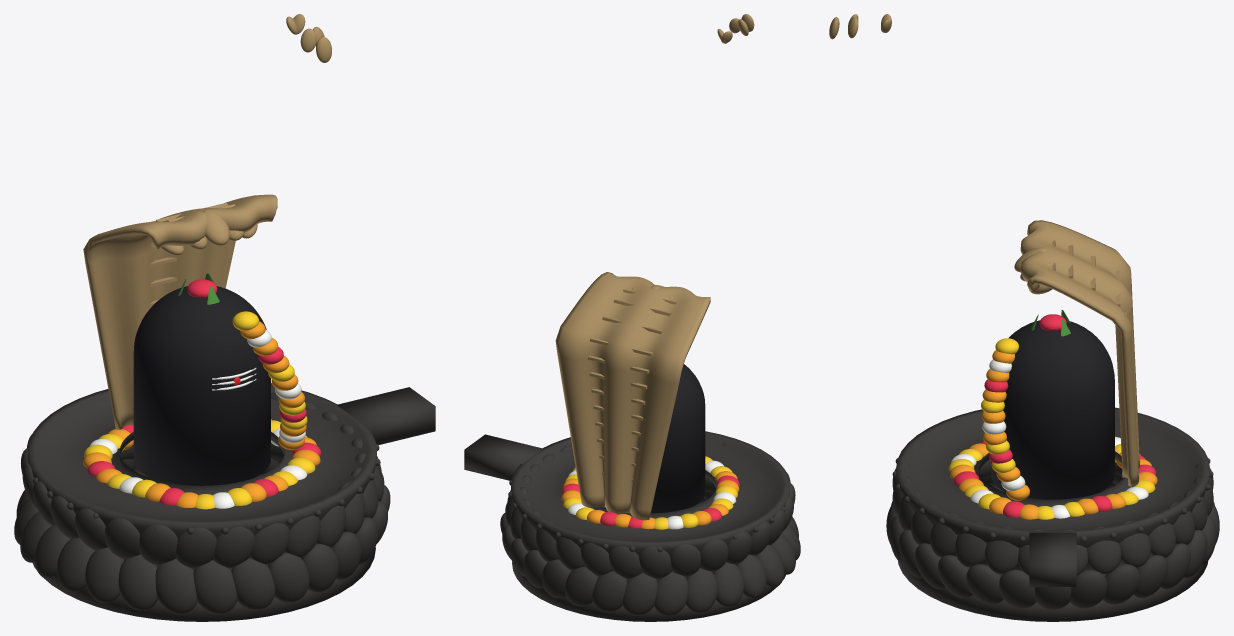
Rendered from shiva_lingam_master.glb.
3 renders of one model, left to right at view 1: azimuth 30°, elevation 25°; view 2: azimuth 150°, elevation 25°; view 3: azimuth 270°, elevation 25°, orthographic. The views are drawn at different scales.
Parts seen in each view (by area): view 1: Shiva_PadmaPithaBase, Shiva_LingamBody, Shiva_NagaHoodCanopy, Shiva_GomukhaSpout, AdhoPetal_18, AdhoPetal_19, AdhoPetal_17, AdhoPetal_20, AdhoPetal_16, AdhoPetal_21, AdhoPetal_15, UrdhvaPetal_18 (+16 smaller); view 2: Shiva_NagaHoodCanopy, Shiva_PadmaPithaBase, Shiva_LingamBody, Shiva_GomukhaSpout, AdhoPetal_10, AdhoPetal_9, AdhoPetal_11, AdhoPetal_8, AdhoPetal_12, AdhoPetal_7, AdhoPetal_13, UrdhvaPetal_9 (+12 smaller); view 3: Shiva_PadmaPithaBase, Shiva_LingamBody, Shiva_NagaHoodCanopy, Shiva_GomukhaSpout, AdhoPetal_1, AdhoPetal_26, AdhoPetal_27, AdhoPetal_2, AdhoPetal_3, AdhoPetal_25, UrdhvaPetal_1, UrdhvaPetal_26 (+11 smaller).
Boxes of the visible parts, x1,y1,x2,y2 form: Shiva_PadmaPithaBase: (27, 383, 376, 621); Shiva_LingamBody: (133, 286, 270, 485); Shiva_NagaHoodCanopy: (83, 194, 277, 429); Shiva_GomukhaSpout: (337, 387, 435, 445); AdhoPetal_18: (155, 558, 197, 614); AdhoPetal_19: (193, 560, 237, 614); AdhoPetal_17: (118, 554, 157, 610); AdhoPetal_20: (231, 558, 275, 610); AdhoPetal_16: (85, 547, 124, 603); AdhoPetal_21: (268, 552, 309, 602); AdhoPetal_15: (57, 537, 95, 592); UrdhvaPetal_18: (175, 527, 216, 568); Shiva_NagaHoodCanopy: (555, 272, 710, 520); Shiva_PadmaPithaBase: (511, 431, 789, 621); Shiva_LingamBody: (651, 364, 705, 513); Shiva_GomukhaSpout: (464, 434, 542, 480); AdhoPetal_10: (654, 571, 687, 615); AdhoPetal_9: (622, 572, 657, 615); AdhoPetal_11: (686, 568, 717, 612); AdhoPetal_8: (592, 571, 627, 612); AdhoPetal_12: (713, 562, 743, 607); AdhoPetal_7: (565, 566, 598, 606); AdhoPetal_13: (736, 554, 766, 598); UrdhvaPetal_9: (639, 546, 671, 579); Shiva_PadmaPithaBase: (896, 407, 1209, 621); Shiva_LingamBody: (991, 320, 1114, 499); Shiva_NagaHoodCanopy: (1020, 220, 1139, 487); Shiva_GomukhaSpout: (1029, 532, 1076, 586); AdhoPetal_1: (1070, 570, 1106, 608); AdhoPetal_26: (966, 564, 1003, 604); AdhoPetal_27: (999, 570, 1036, 608); AdhoPetal_2: (1102, 564, 1139, 604); AdhoPetal_3: (1133, 555, 1168, 597); AdhoPetal_25: (938, 555, 972, 597); UrdhvaPetal_1: (1087, 526, 1121, 574); UrdhvaPetal_26: (985, 526, 1018, 574).
Bounding box in the file's own units: 0.741 × 1.11 × 0.7264.
